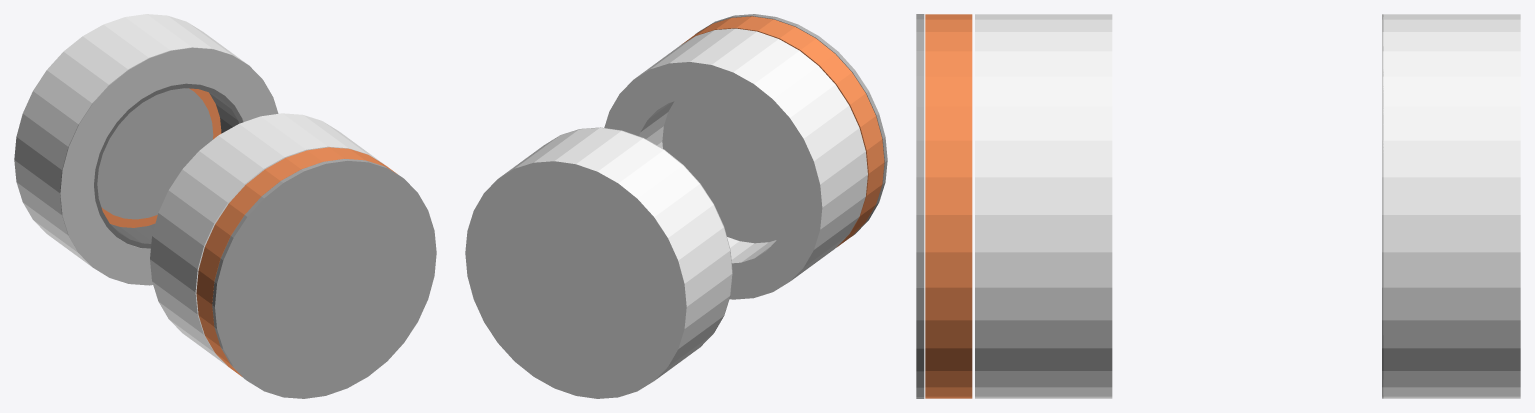
Rendered from bombotspawn.dae.
3 renders of one model, left to right at view 1: azimuth 30°, elevation 25°; view 2: azimuth 150°, elevation 25°; view 3: azimuth 270°, elevation 25°, orthographic. The views are drawn at different scales.
Visible parts, largest first — view 1: Cylinder_000; view 2: Cylinder_000; view 3: Cylinder_000.
Boxes of the visible parts, x1,y1,x2,y2 form: Cylinder_000: (14,14,436,398); Cylinder_000: (465,14,887,398); Cylinder_000: (916,14,1520,398).
Size of the model in its own units: 2.8 by 2.8 by 4.4.
